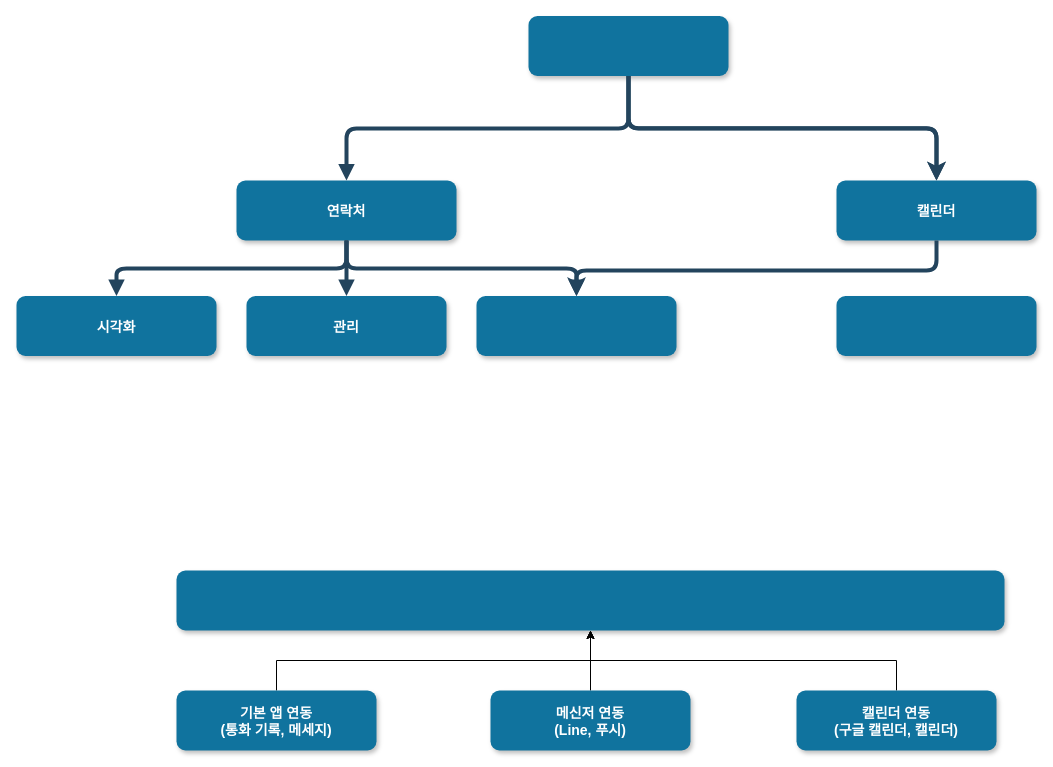
The diagram is 1053 pixels wide and 767 high, and some of its shapes have lost their labels. Here are the shapes that lost their labels. From the top down, the centre of each, then its label:
At (x=629, y=47): "통합 관리".
At (x=577, y=327): "연락 주기 추천".
At (x=937, y=327): "기본 캘린더 기능".
At (x=591, y=601): "db".
